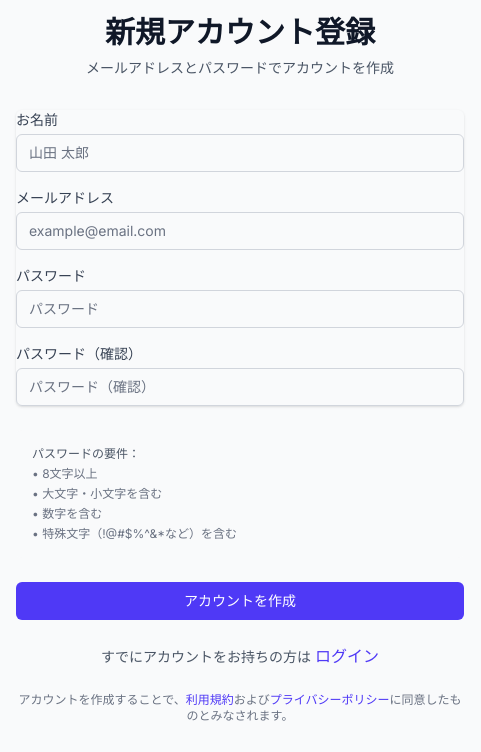
SignupPage › パスワード強度のリアルタイム検証が機能する
Note: 弱いパスワードを入力
Type "weak" into the password field labelled "パスワード" at coordinates (240, 309), box [16, 290, 464, 328]
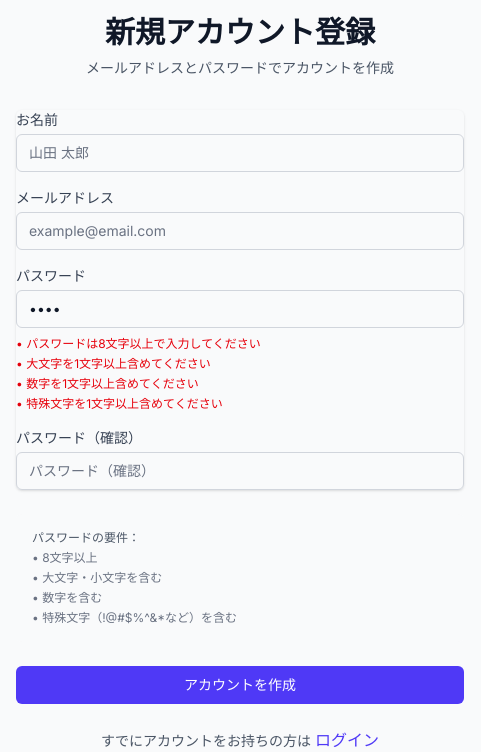
Now the list item "• パスワードは8文字以上で入力してください" is shown, box [16, 336, 261, 351]
Now the list item "• 大文字を1文字以上含めてください" is shown, box [16, 356, 211, 371]
Now the list item "• 数字を1文字以上含めてください" is shown, box [16, 376, 199, 391]
Note: 強いパスワードを入力
Type "Test123!@#" into the password field labelled "パスワード" at coordinates (240, 309), box [16, 290, 464, 328]
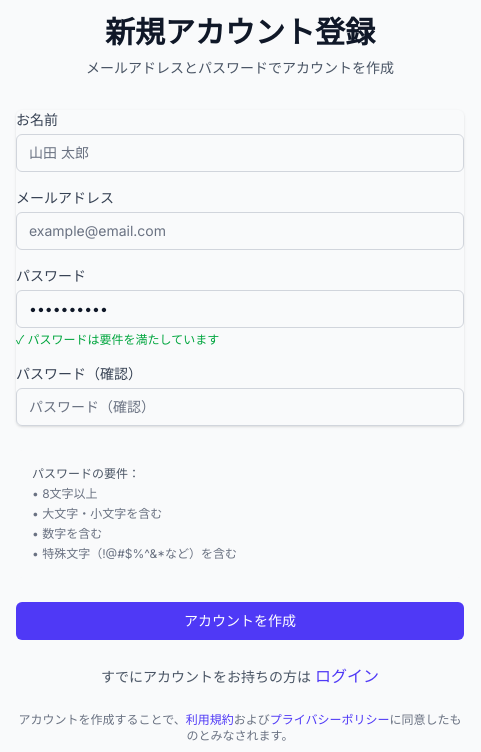
Now the text "✓ パスワードは要件を満たしています" is shown, box [16, 332, 219, 347]
